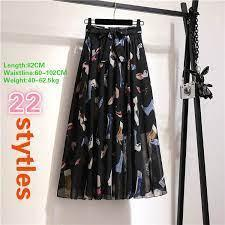skirt: (57, 19, 161, 199)
